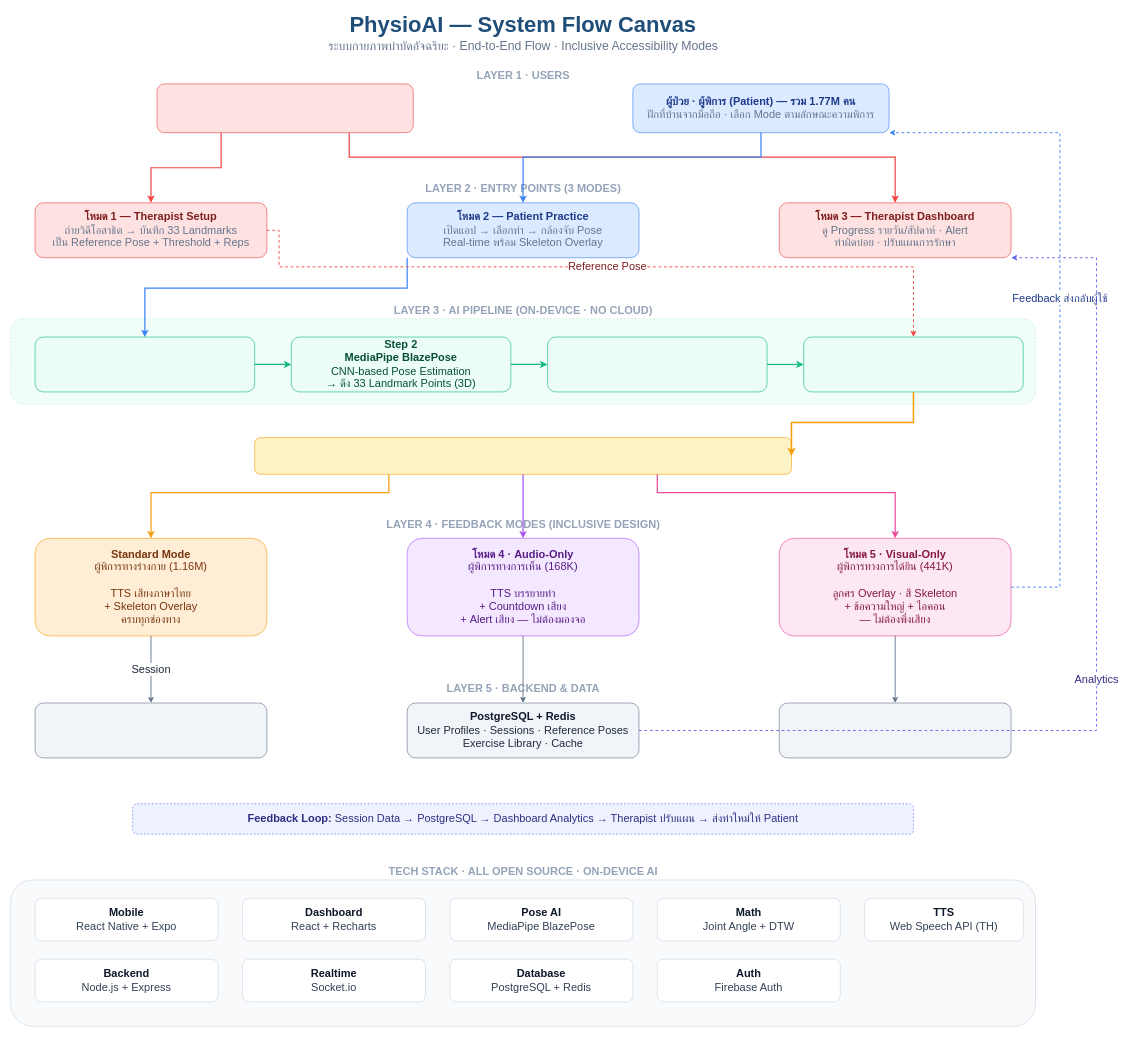
Image size: 1129x1037. Some labels were removed from this diagram. Here are the shapes that lost their labels. From the top down, the centre of each, then its label:
At point 284,108: "นักกายภาพบำบัด (Therapist) Setup ท่า · บันทึก Reference Pose · ติดตาม Progress".
At point 144,364: "Step 1 Camera Frame จับภาพ Real-time จากมือถือ".
At point 657,364: "Step 3 Joint Angle Calculation Inverse Trigonometry (atan2) + Cosine Similarity".
At point 913,364: "Step 4 Compare vs Reference Threshold 15° · DTW สำหรับ Movement Sequence".
At point 522,455: "Feedback Engine — แยกผลลัพธ์ตามความพิการของผู้ใช้ → เลือก Output Channel".
At point 150,730: "Node.js + Express REST API + Socket.io Real-time Patient ↔ Therapist".
At point 895,730: "Firebase Auth User Authentication Role-based Access (Therapist / Patient)".
